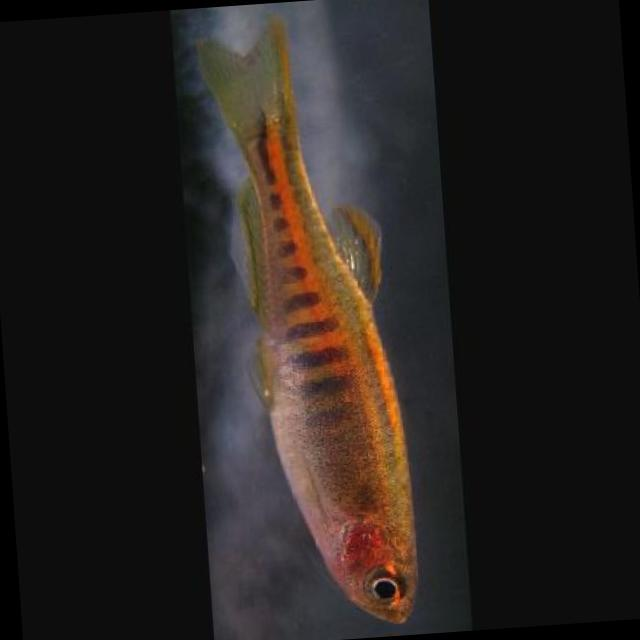ZebraFish: (200, 11, 426, 630)
